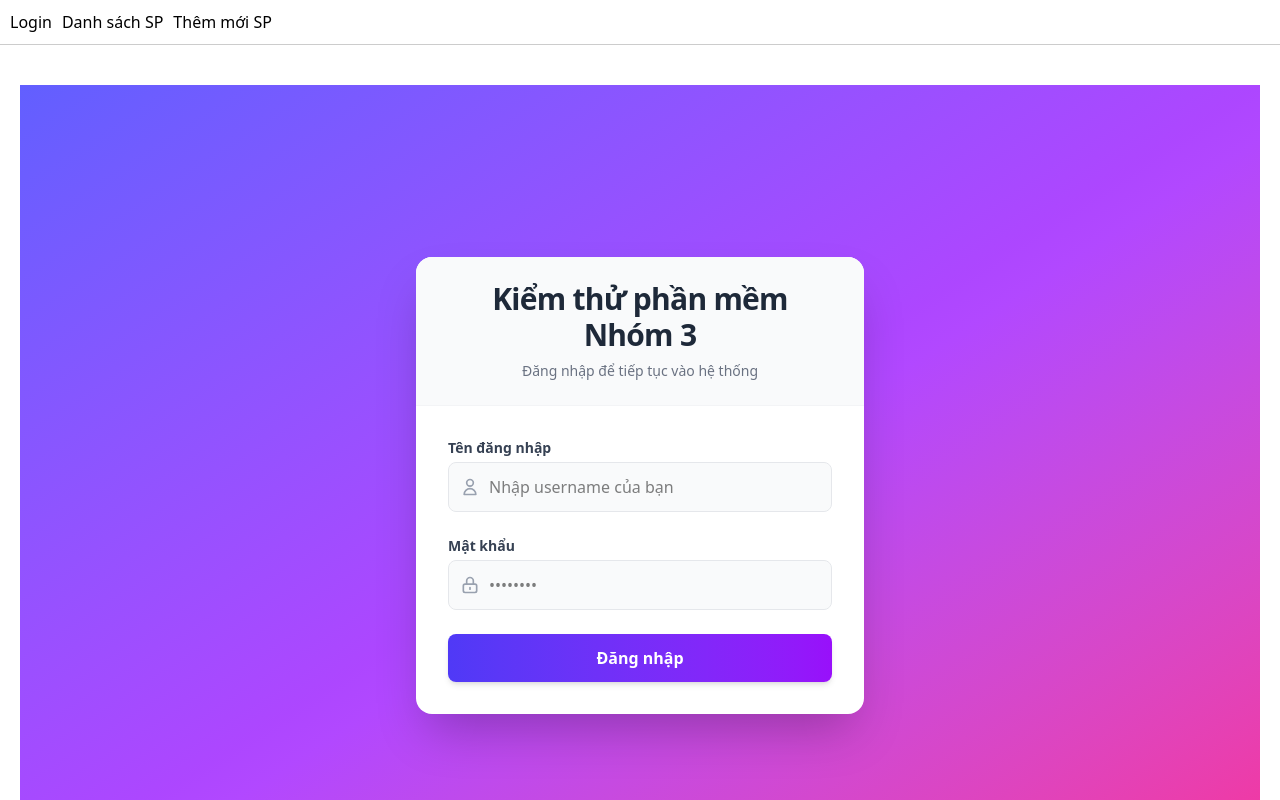
Test case: Chức năng Đăng Nhập (Chế độ Demo) › 1. Đăng nhập thành công (User đúng, Pass đúng)
Type "quang" into the field with test id "username-input" at (640, 487), box 448,462 -> 832,512
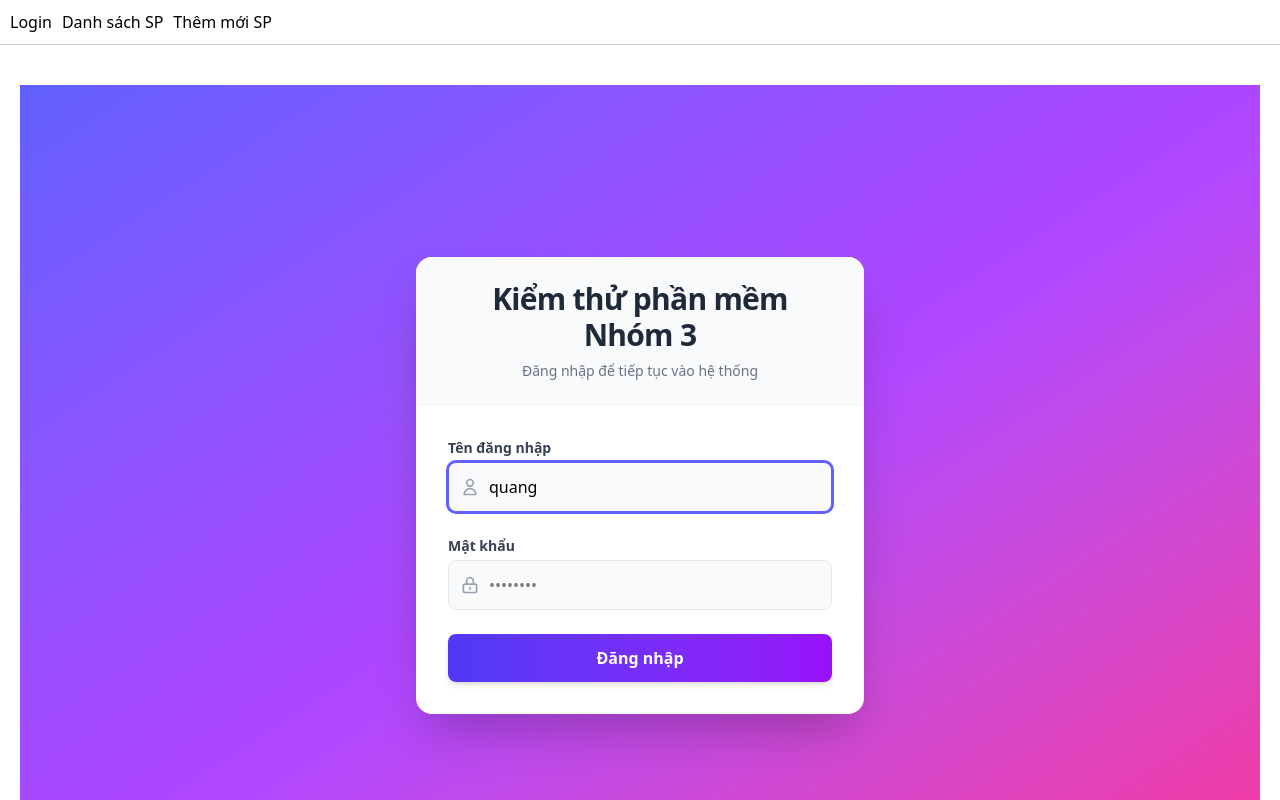
Type "123456" into the password field with test id "password-input" at (640, 585), box 448,560 -> 832,610
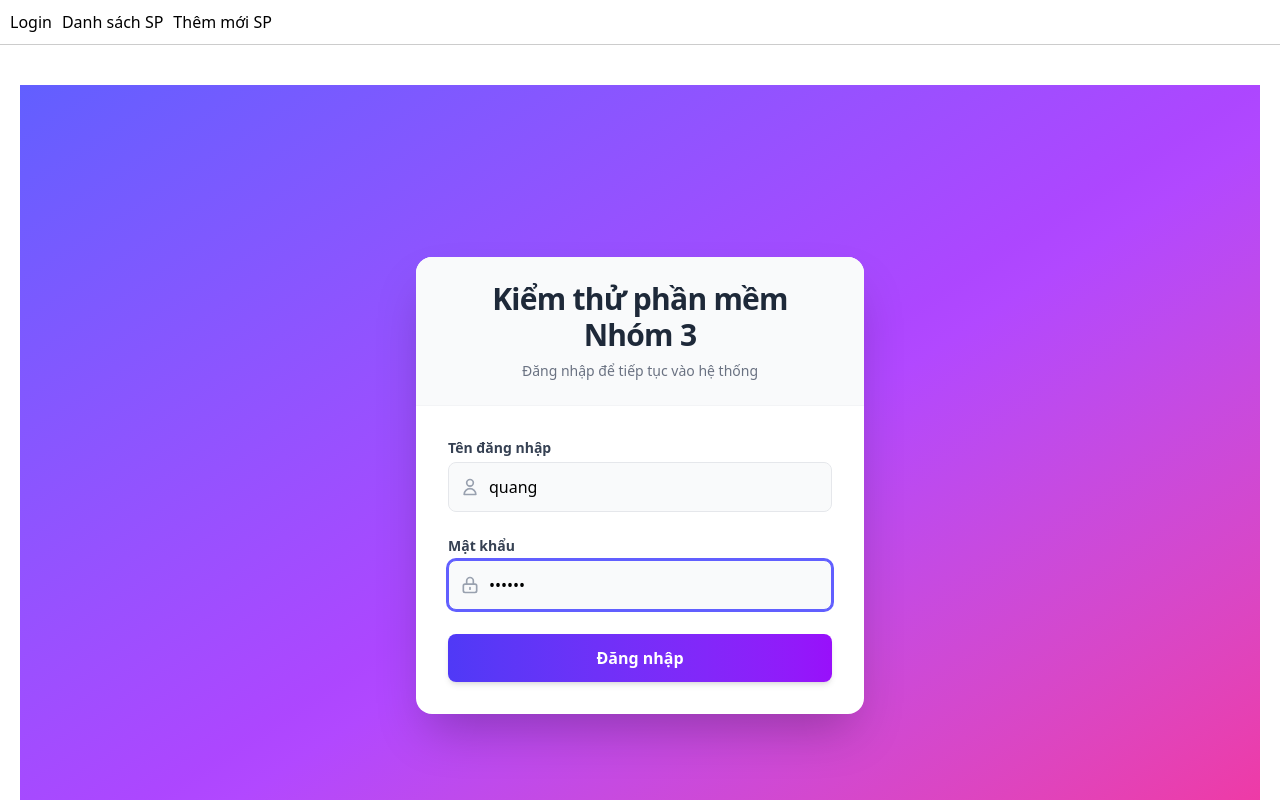
Click the button with test id "login-button" at (640, 658), box 448,634 -> 832,682
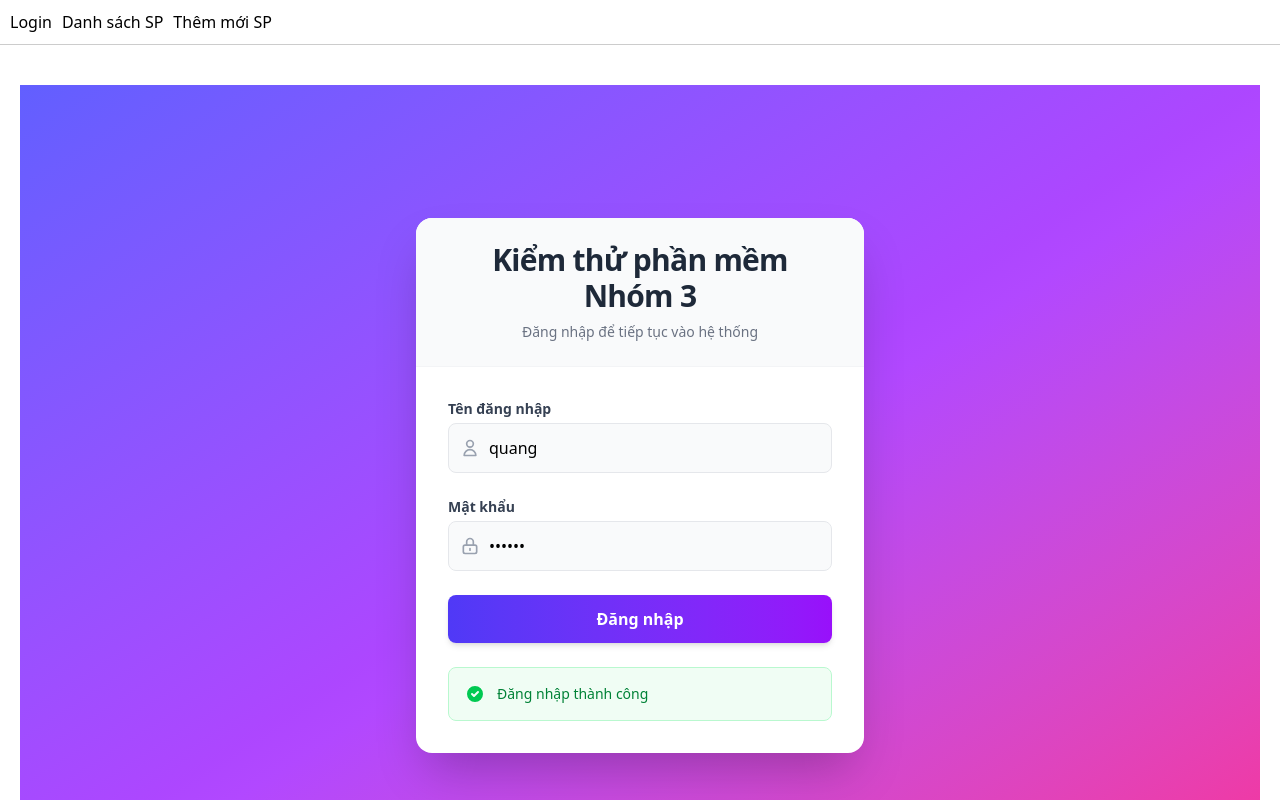
Expected: the element with test id "login-message" is shown, 448,667 -> 832,721
Expected: the text with test id "login-message" reads "Đăng nhập thành công", 497,684 -> 648,703
